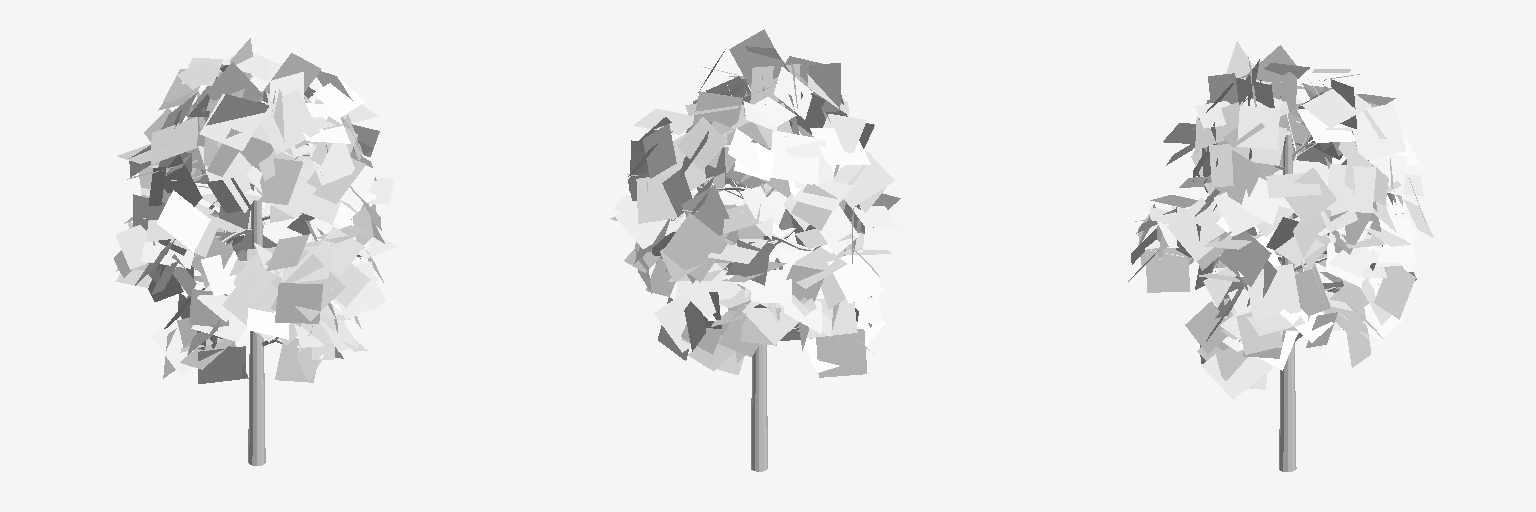
The model's file is European_Beech_Model_0.obj.
The picture shows the model from 3 angles: view 1: azimuth 30°, elevation 25°; view 2: azimuth 150°, elevation 25°; view 3: azimuth 270°, elevation 25°; orthographic projection.
Visible parts, largest first — view 1: Foliage__leafcard, Bark; view 2: Foliage__leafcard, Bark; view 3: Foliage__leafcard, Bark.
Part boxes in pixels (x1,y1,x2,y2): Foliage__leafcard: (114, 38, 398, 383); Bark: (171, 77, 359, 465); Foliage__leafcard: (610, 29, 915, 377); Bark: (659, 66, 851, 471); Foliage__leafcard: (1128, 41, 1433, 399); Bark: (1159, 80, 1403, 471).
Size of the model in its own units: 8.24 by 12.5 by 8.32.